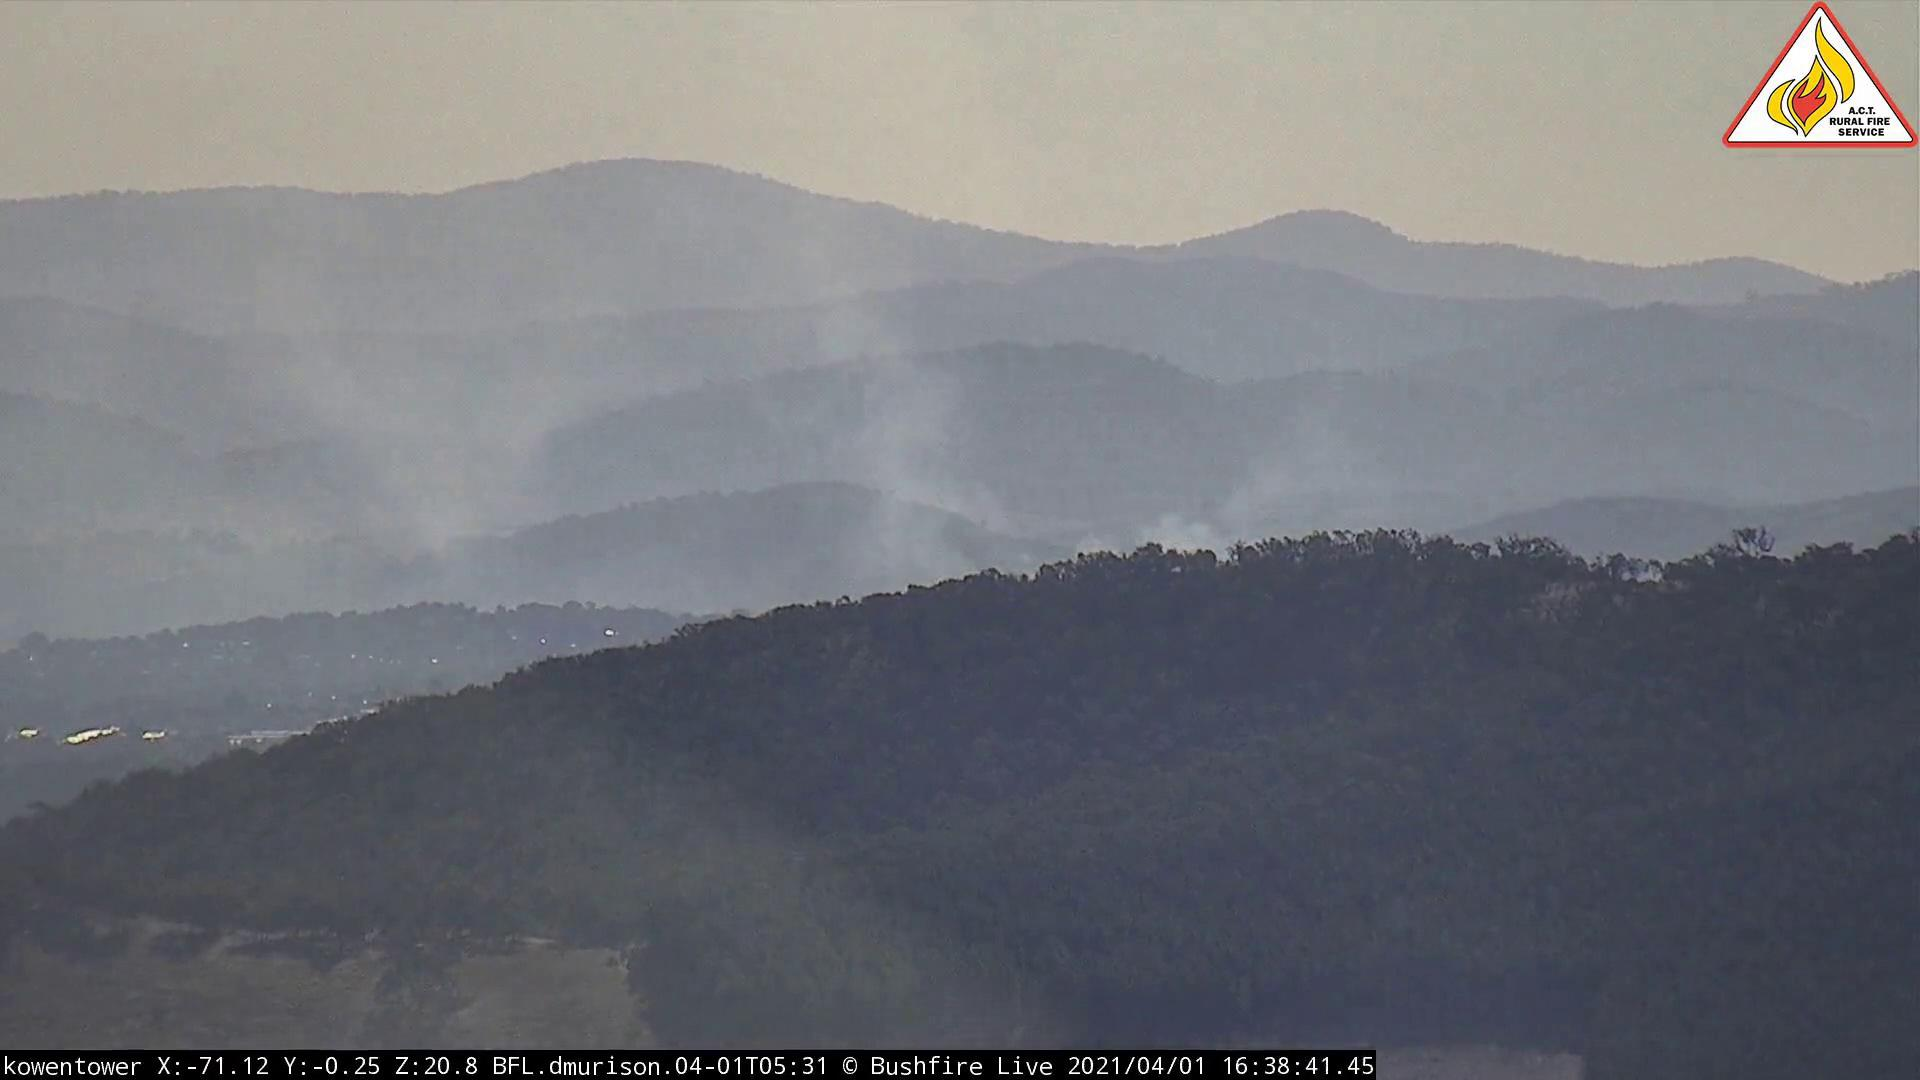Smoke: (621, 247, 1269, 583)
